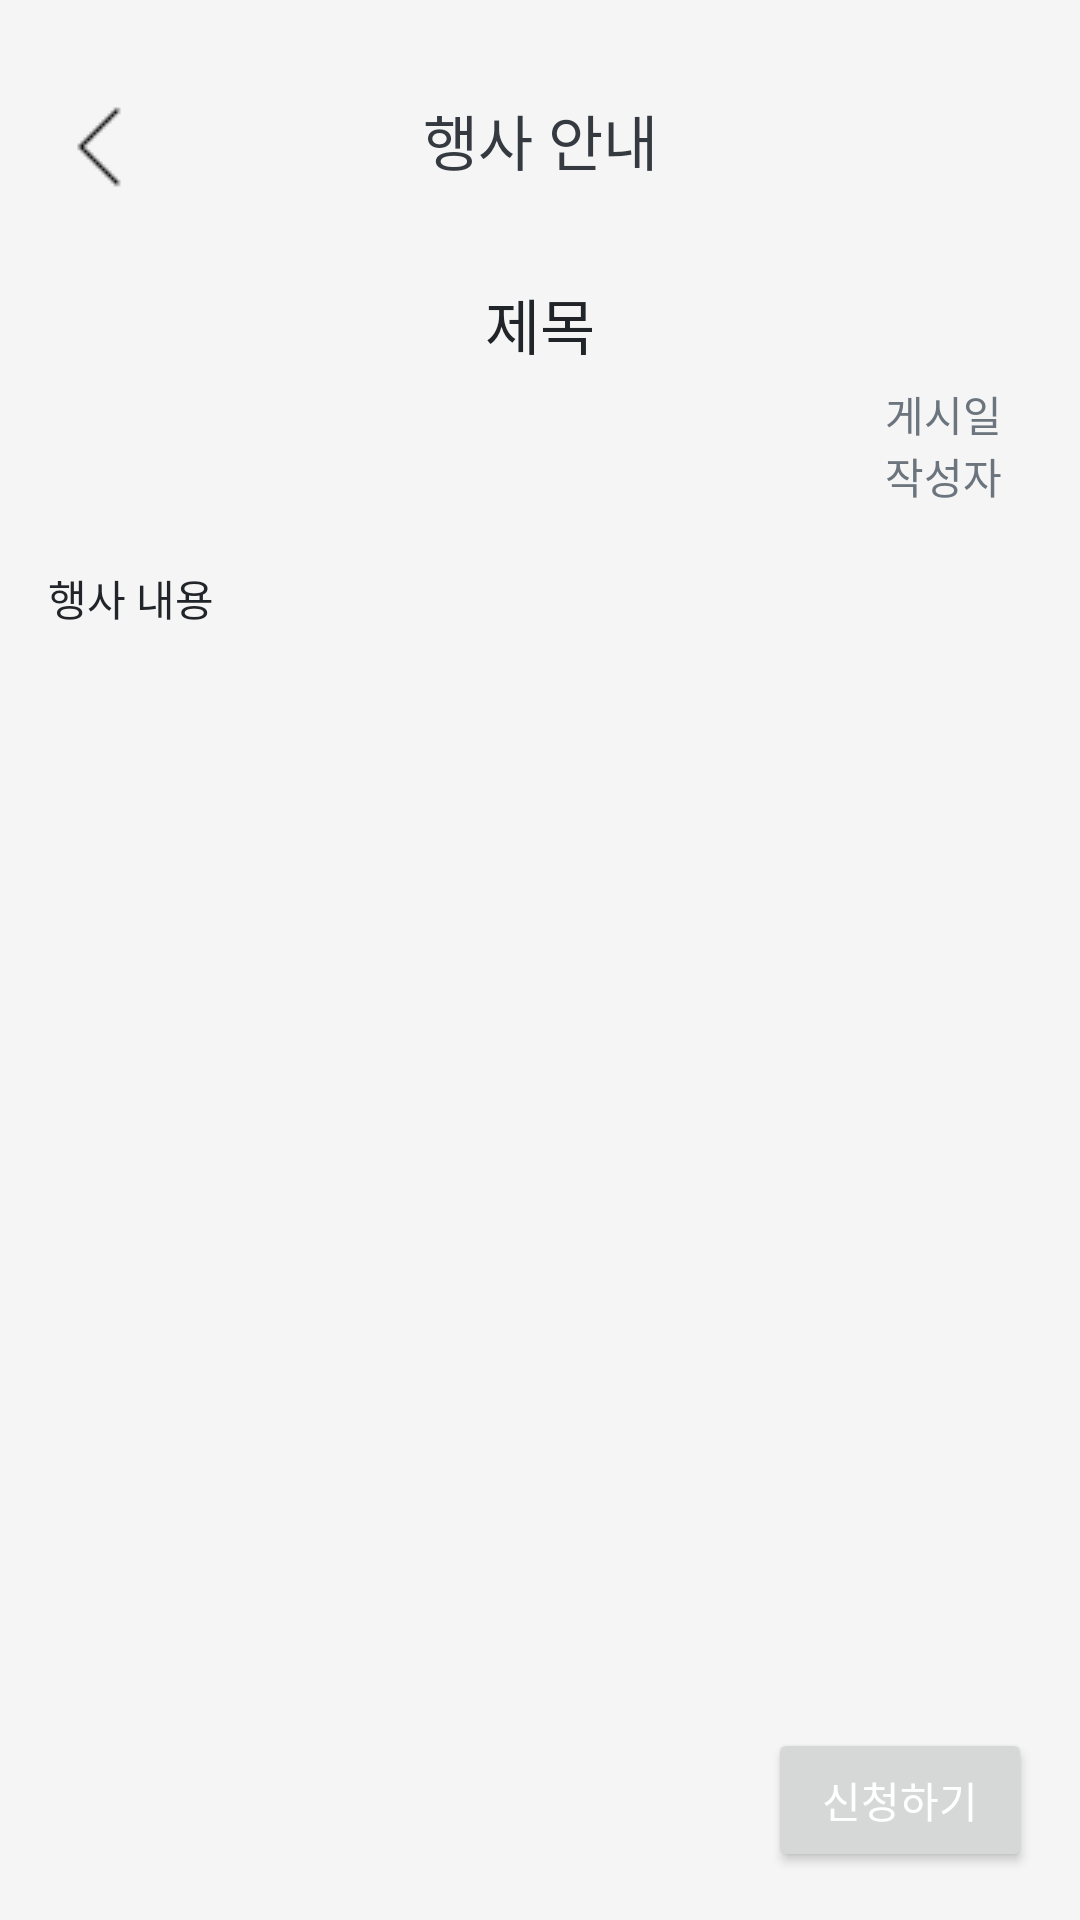

Named icons in this screenshot (1080w x 1920h) and their centers, (x,y):
back: (99,147)
